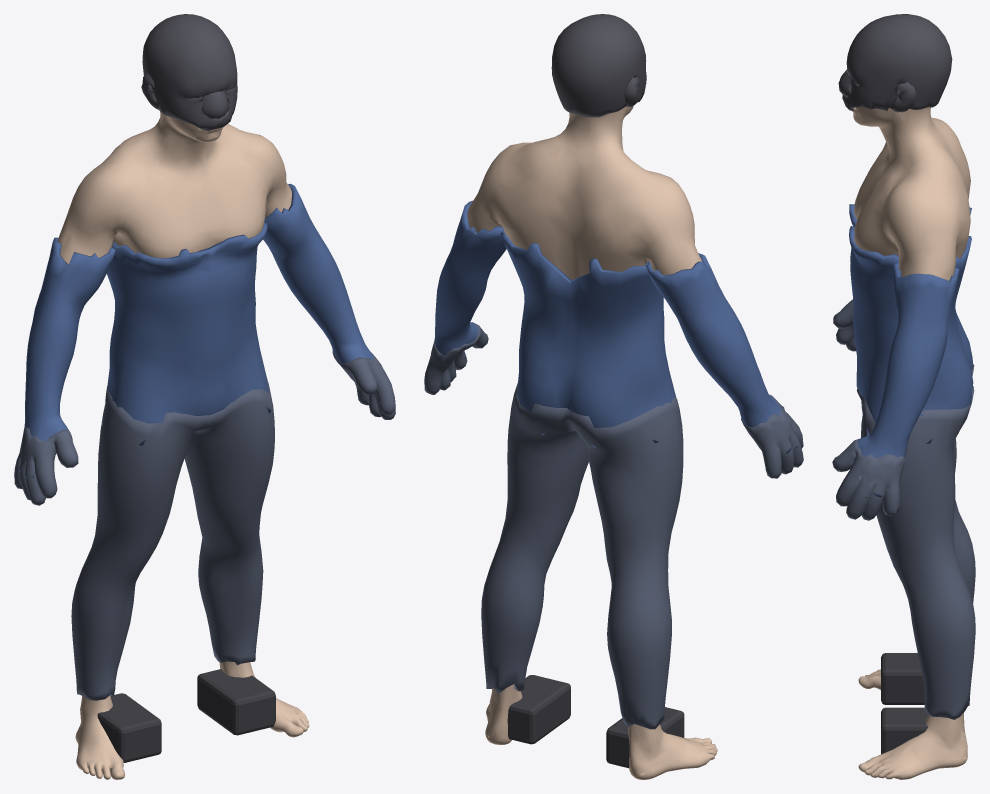
The model's file is variant_male_navy.glb.
3 views of the same model, side by side, from view 1: azimuth 30°, elevation 25°; view 2: azimuth 150°, elevation 25°; view 3: azimuth 270°, elevation 25° (orthographic).
Parts seen in each view (by area): view 1: PeriHuman; view 2: PeriHuman; view 3: PeriHuman.
Boxes of the visible parts, x1,y1,x2,y2 form: PeriHuman: (14, 14, 395, 779); PeriHuman: (424, 14, 803, 779); PeriHuman: (832, 14, 975, 779).
Bounding box in the file's own units: 0.9418 × 1.79 × 0.3262.
